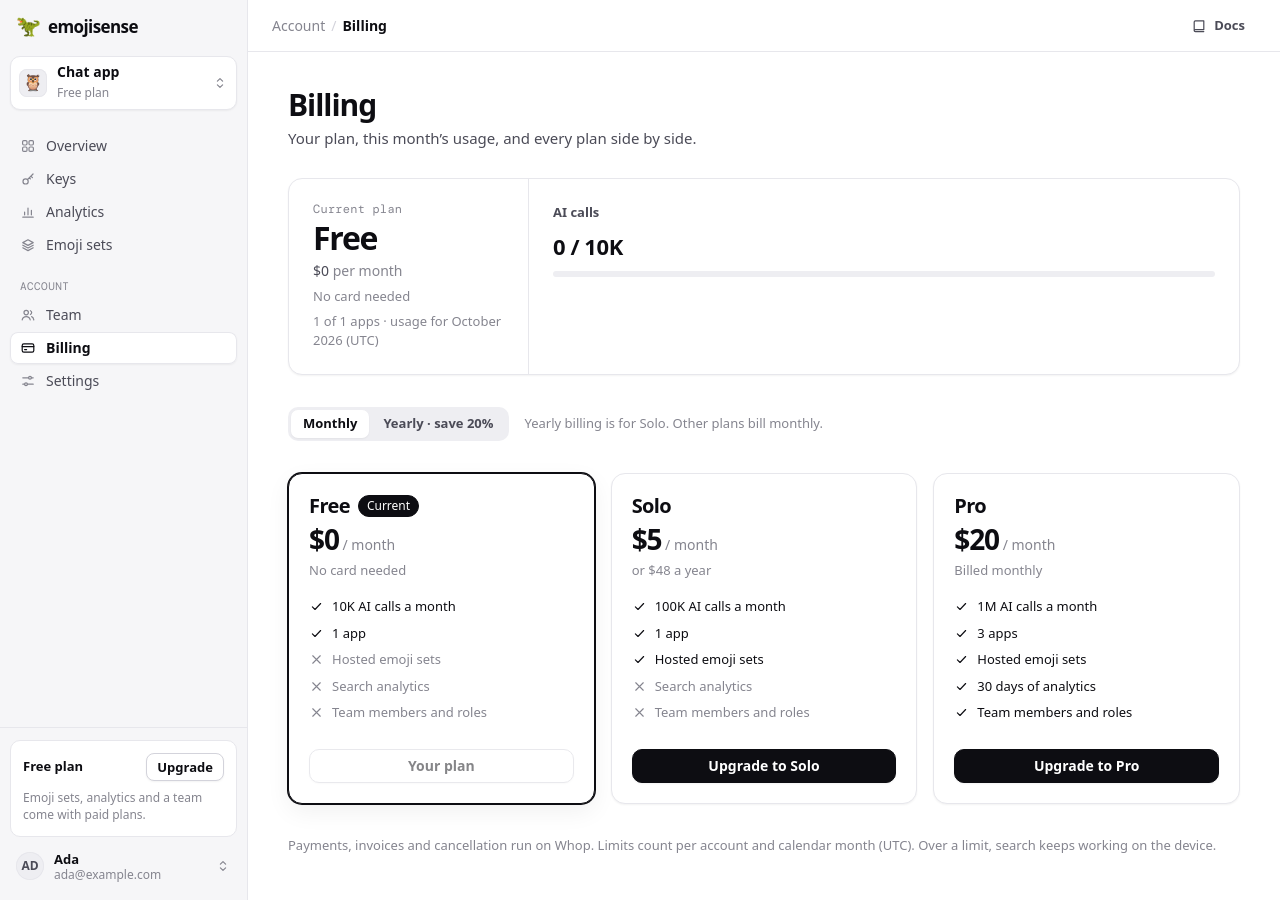
Test: Billing page: buying a plan › shows the API's answer next to the button when checkout fails
The width and height of the screenshot is (1280, 900).
Click the button "Upgrade to Pro": (1087, 766) [954,749,1219,783]
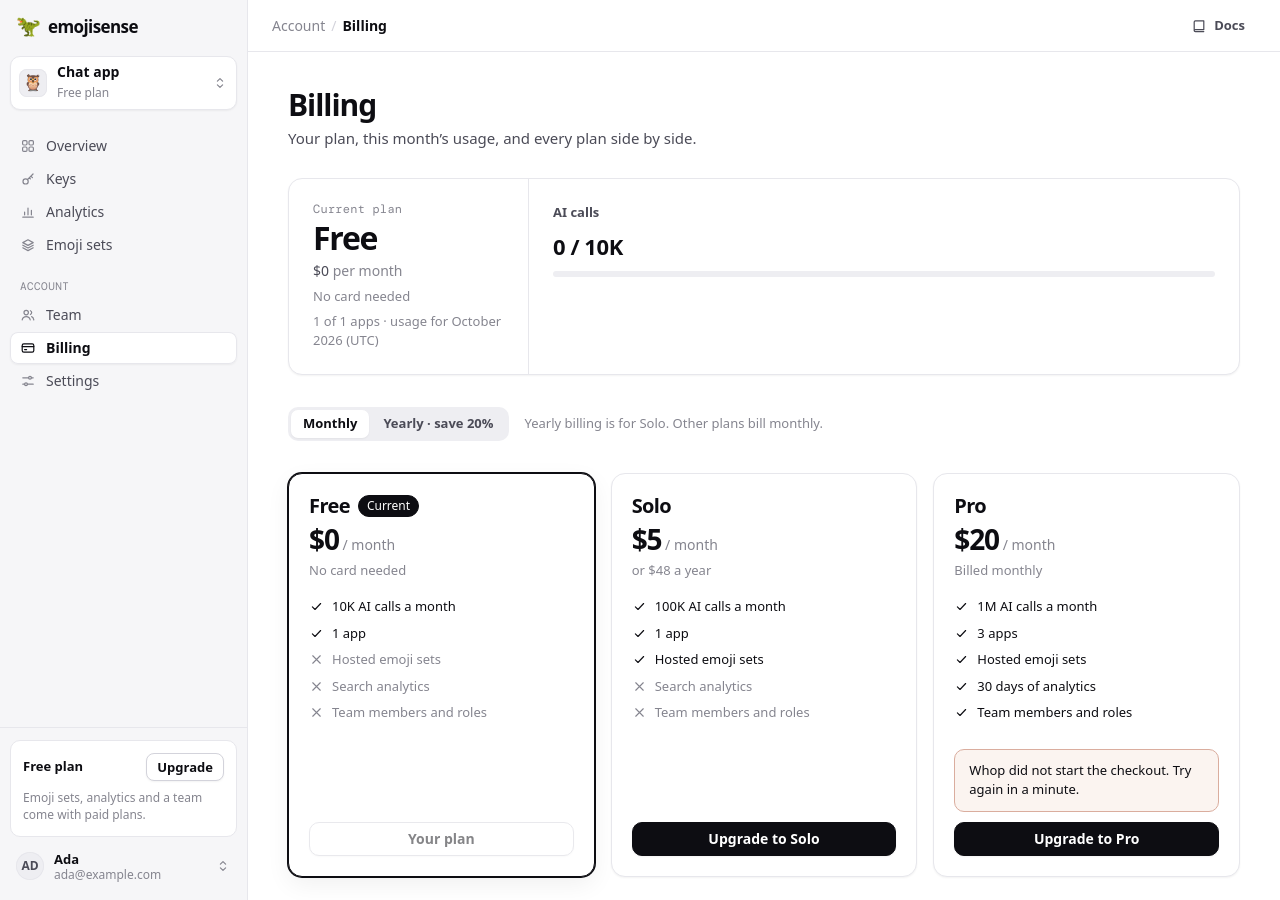
Check: the button "Upgrade to Pro" is enabled, box [954,822,1219,856]
Check: the message shows "Whop did not start", box [969,761,1191,798]
